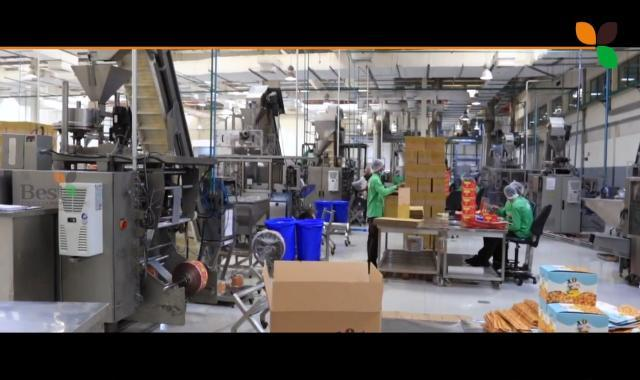Hairnet: (505, 181, 525, 198), (370, 158, 384, 172)
